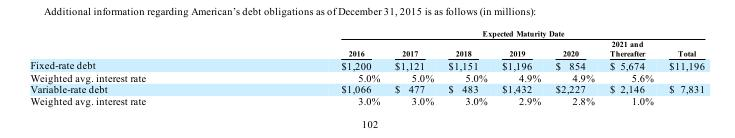table: (29, 28, 703, 106)
table column: (29, 28, 242, 106), (242, 28, 386, 106), (601, 28, 660, 106), (386, 28, 440, 106), (493, 28, 547, 106), (547, 28, 601, 106), (440, 28, 493, 106), (660, 28, 703, 106)
table column header: (29, 28, 703, 57)
table row: (29, 38, 703, 57), (29, 57, 703, 70), (29, 70, 703, 82), (29, 82, 703, 94), (29, 94, 703, 106), (29, 28, 703, 38)
table spanning cell: (242, 28, 703, 38)
